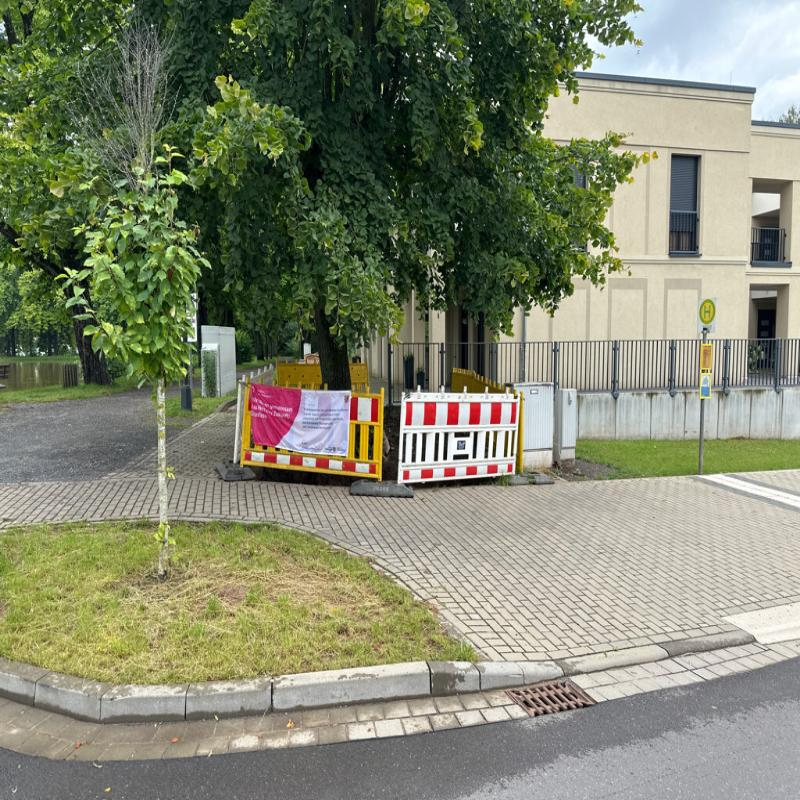Banner: (253, 383, 351, 456)
